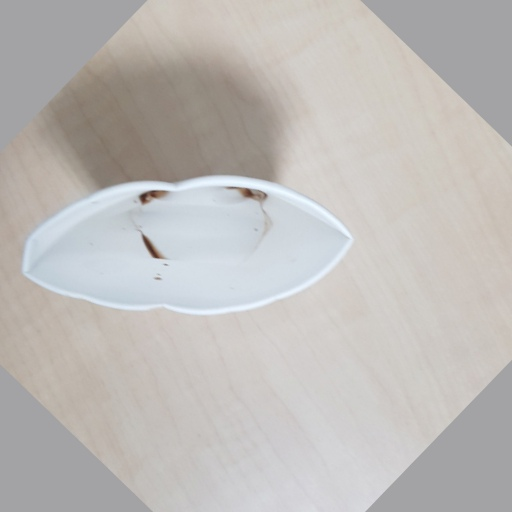Paper_1: (23, 172, 355, 323)
